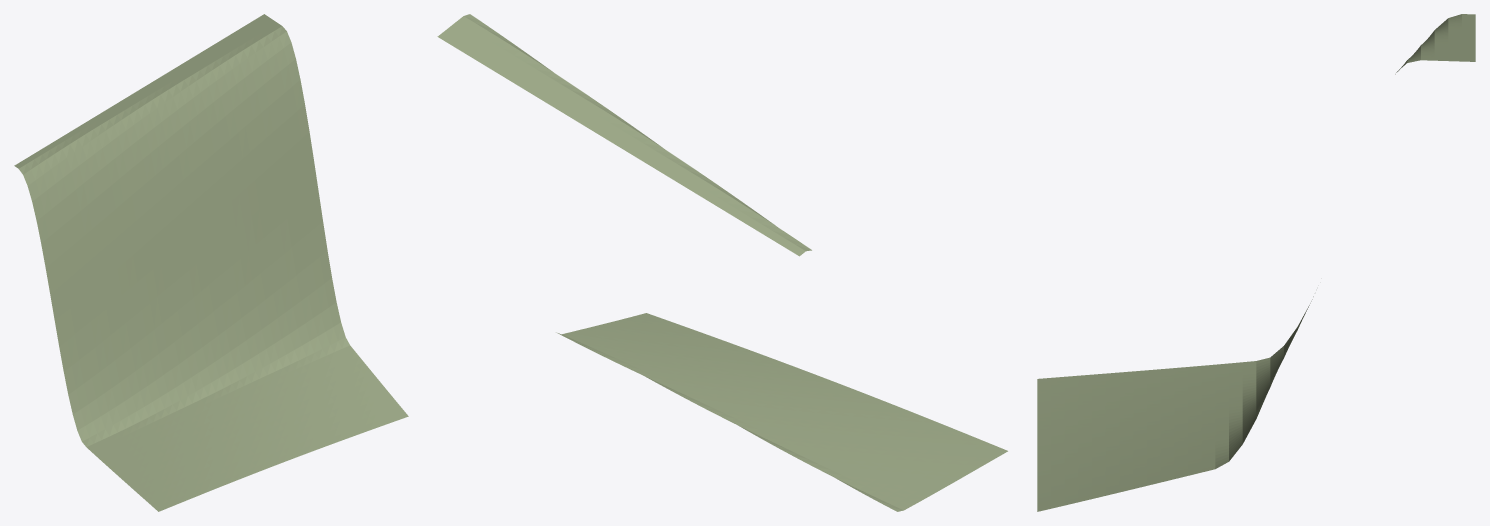
Rendered from alpine-11-12.glb.
The picture shows the model from 3 angles, left to right: view 1: azimuth 30°, elevation 25°; view 2: azimuth 150°, elevation 25°; view 3: azimuth 270°, elevation 25°; orthographic projection. The views are drawn at different scales.
Visible parts, largest first — view 1: alpine-11-12; view 2: alpine-11-12; view 3: alpine-11-12.
Part boxes in pixels (x1,y1,x2,y2): alpine-11-12: (14, 14, 408, 511); alpine-11-12: (437, 14, 1007, 511); alpine-11-12: (1037, 14, 1475, 511).
Bounding box in the file's own units: 256 × 325 × 256.
